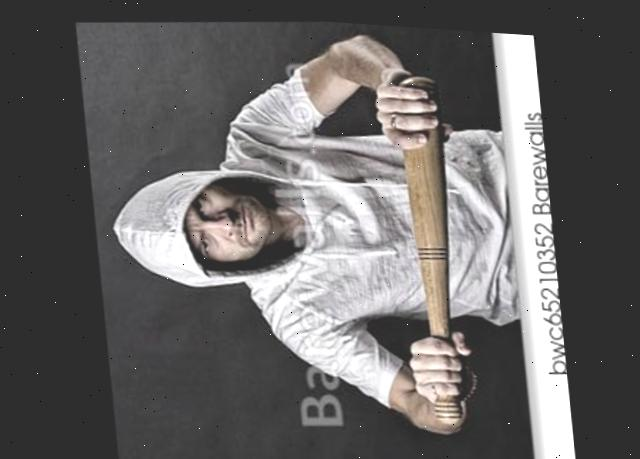baseball bat: (391, 60, 473, 419)
